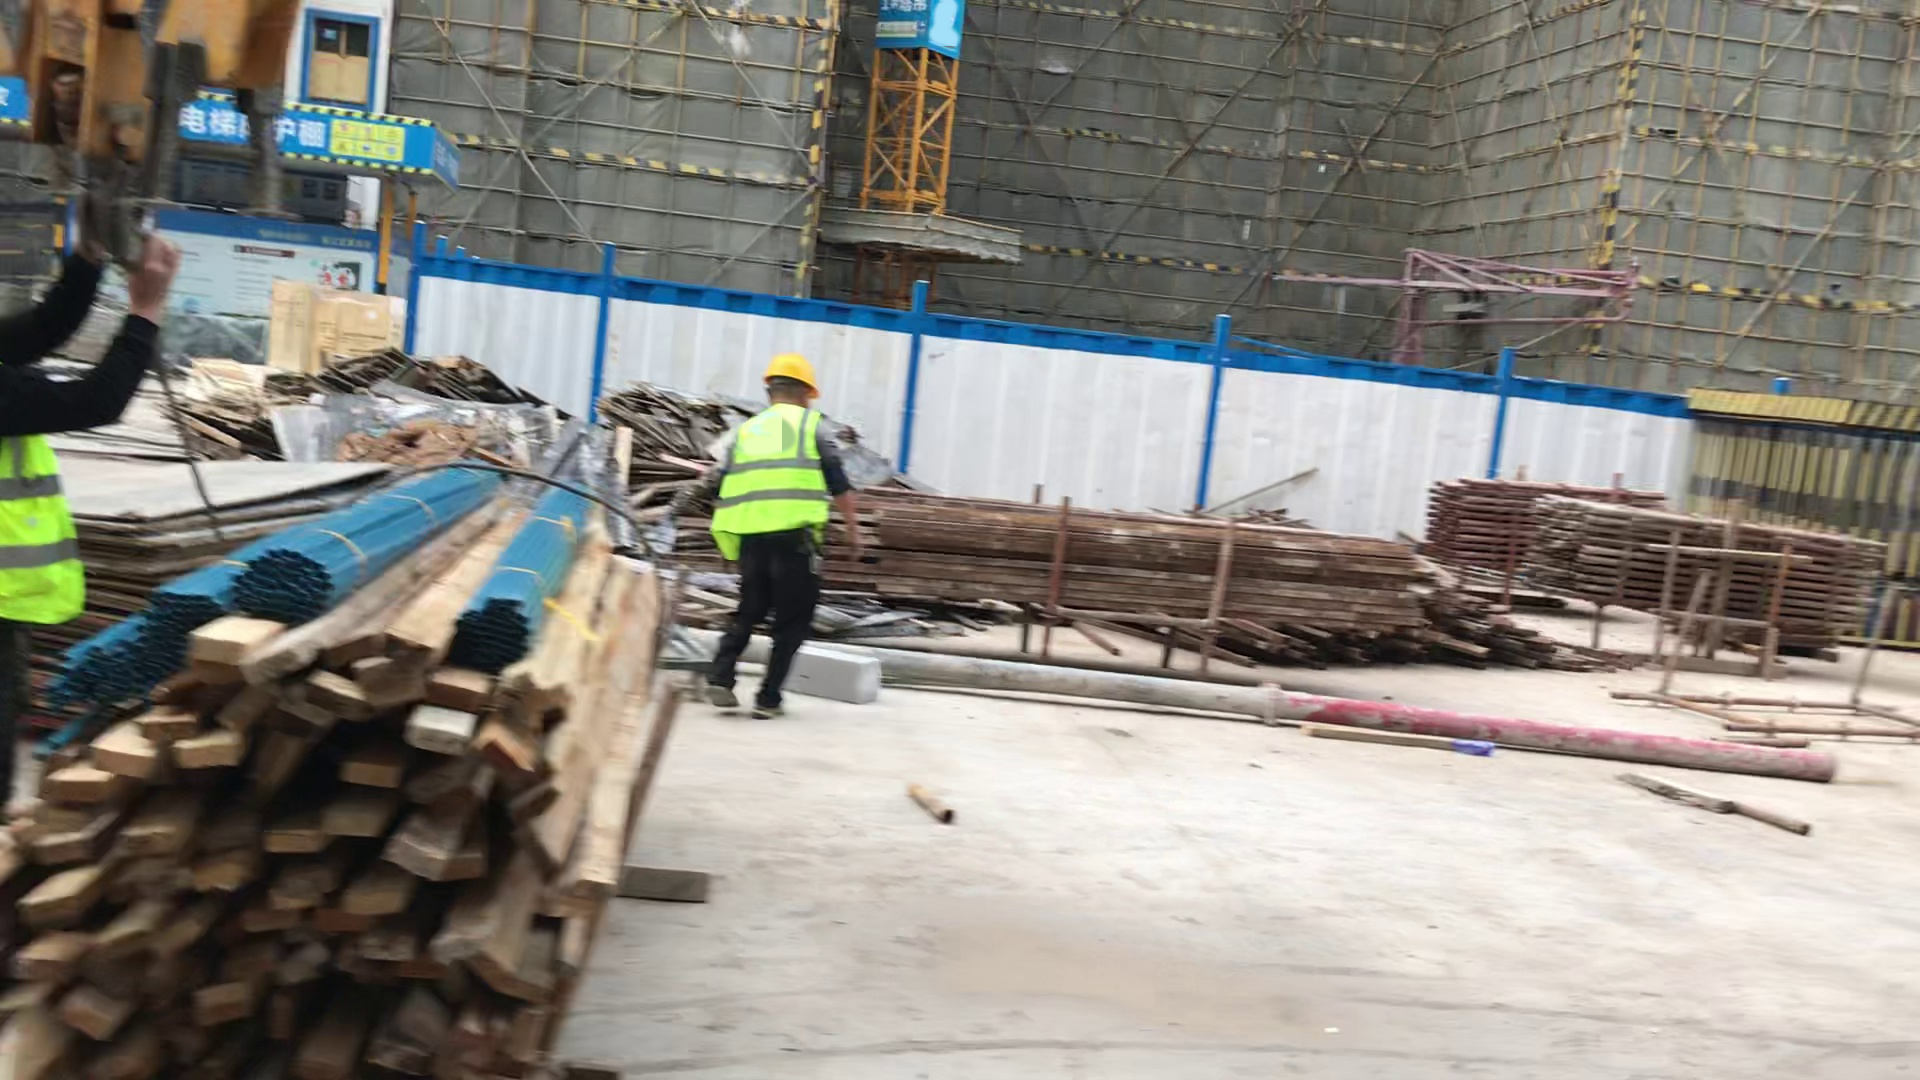board: (50, 458, 406, 747)
brick: (783, 643, 900, 714)
helmet: (752, 342, 840, 400)
hook: (1, 4, 360, 237)
person: (2, 226, 190, 837), (700, 334, 881, 749)
scaffold: (1404, 458, 1877, 639)
slogan: (2, 68, 423, 195), (142, 208, 394, 343), (867, 1, 992, 70), (411, 115, 473, 187)
vest: (1, 354, 110, 639), (713, 405, 843, 564)
wood: (2, 418, 715, 1080)
